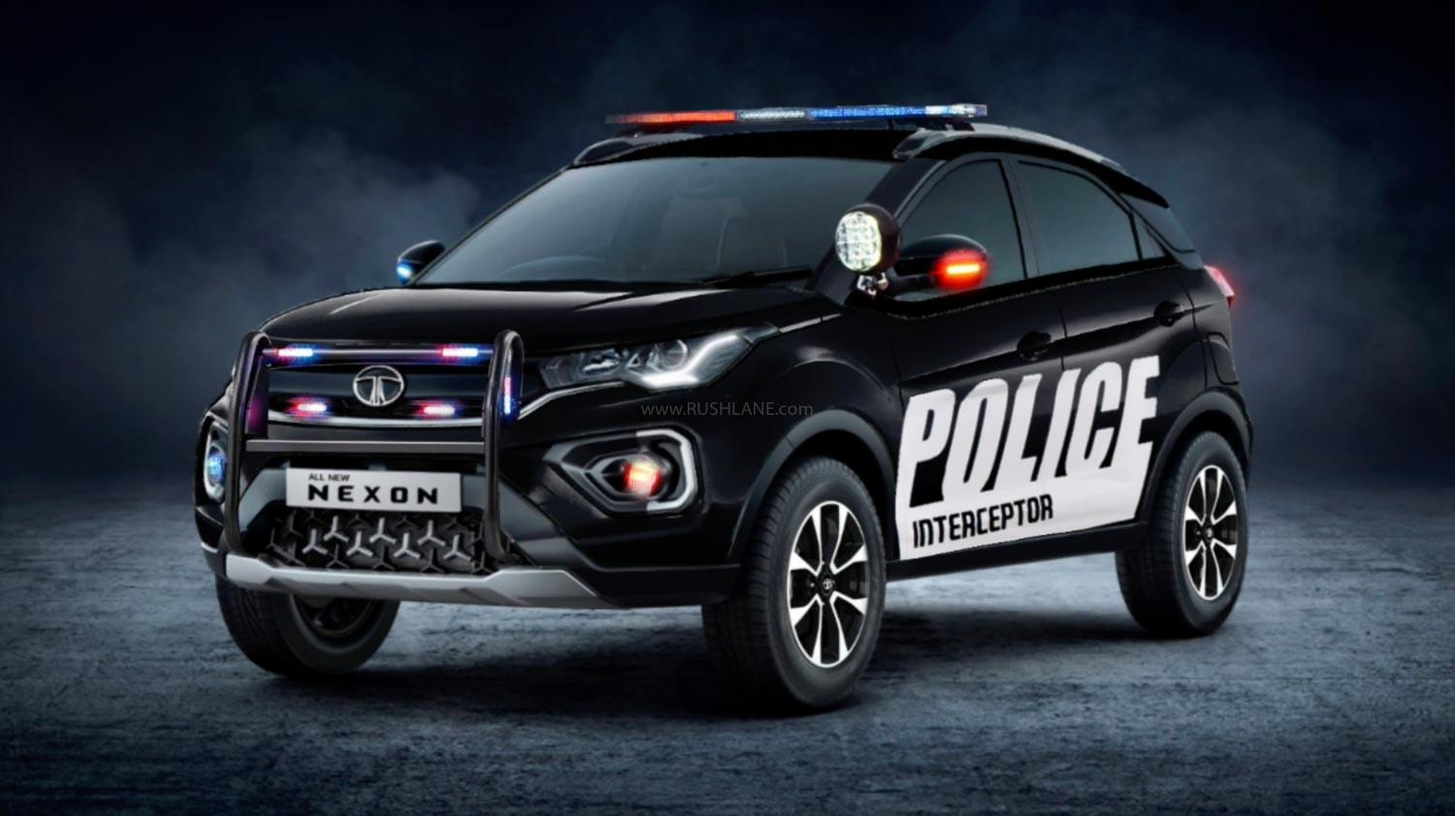Emergency-Vehicles: (180, 65, 1372, 745)
